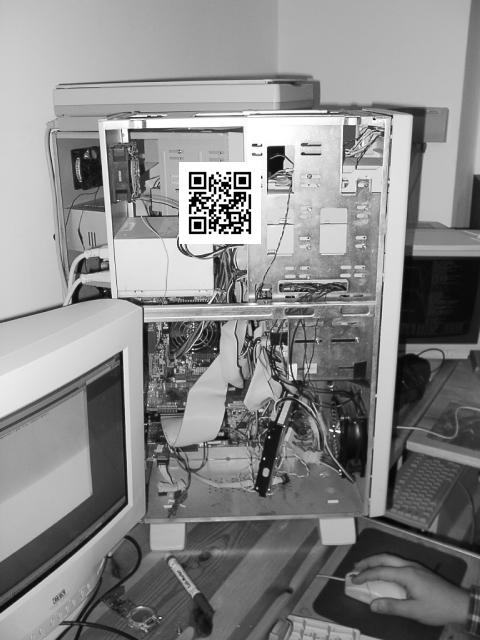qr_code: (181, 161, 261, 242)
